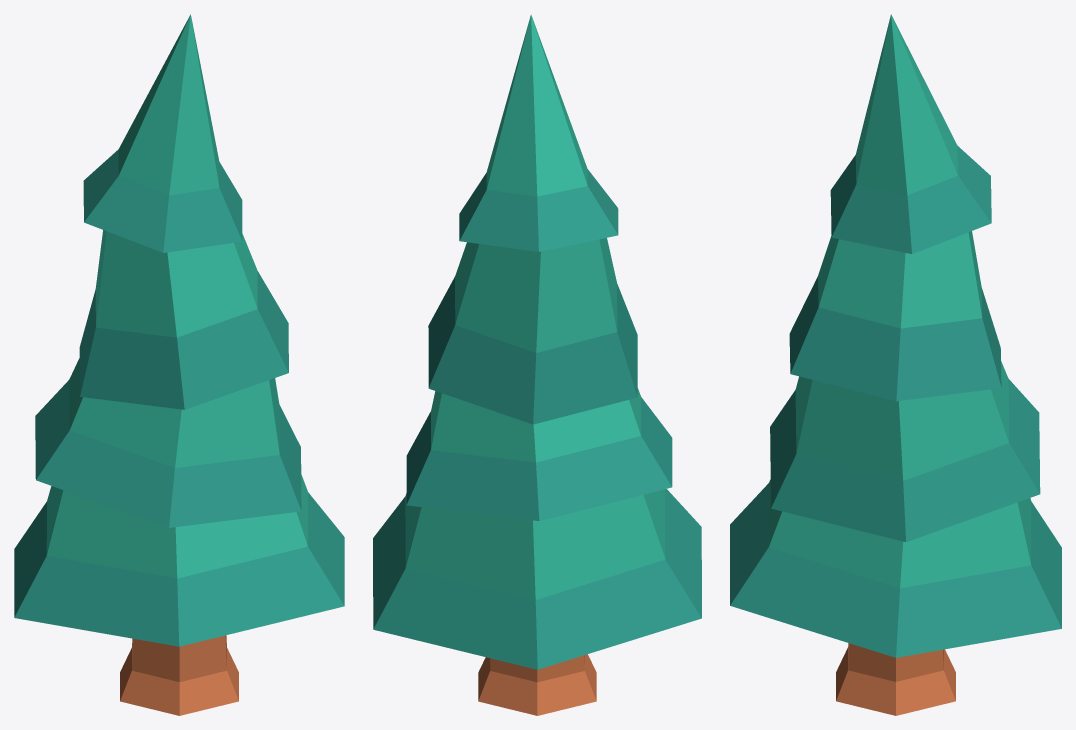
File: pineCrooked.fbx
3 renders of one model, left to right at view 1: azimuth 30°, elevation 25°; view 2: azimuth 150°, elevation 25°; view 3: azimuth 270°, elevation 25°, orthographic.
Parts seen in each view (by area): view 1: pineCrooked; view 2: pineCrooked; view 3: pineCrooked.
Boxes of the visible parts, bbox=[...] form: pineCrooked: bbox=[14, 14, 344, 715]; pineCrooked: bbox=[373, 14, 701, 715]; pineCrooked: bbox=[730, 14, 1061, 715].
Size of the model in its own units: 11.78 by 22.9 by 10.17.
